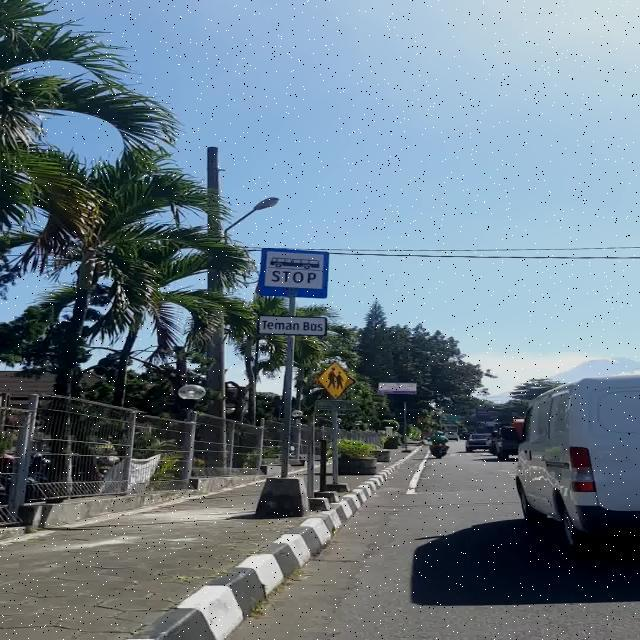Pemberhentian Bus: (258, 247, 329, 299)
